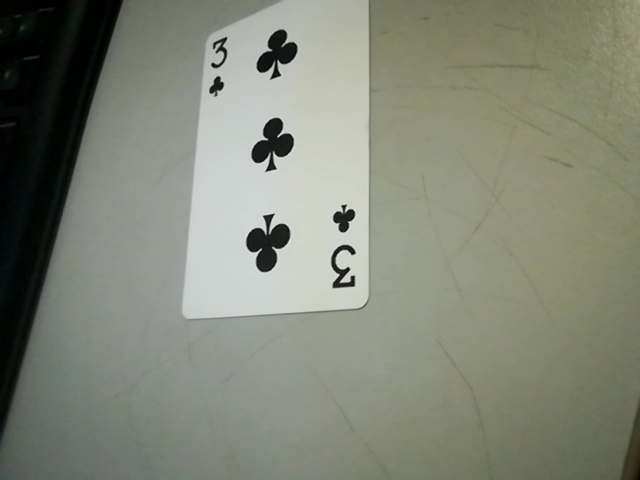mh 3: (320, 200, 369, 301)
